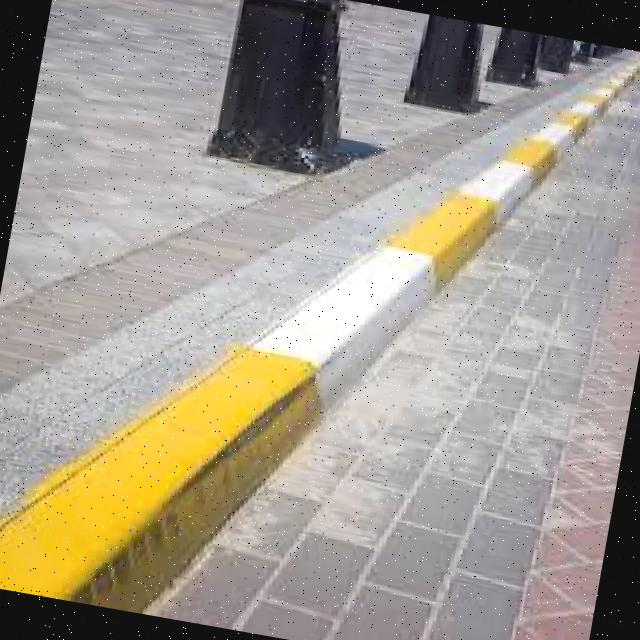curb: (1, 409, 297, 636), (139, 270, 386, 514), (306, 165, 482, 346), (453, 141, 544, 243), (535, 88, 586, 156), (571, 82, 620, 129)
